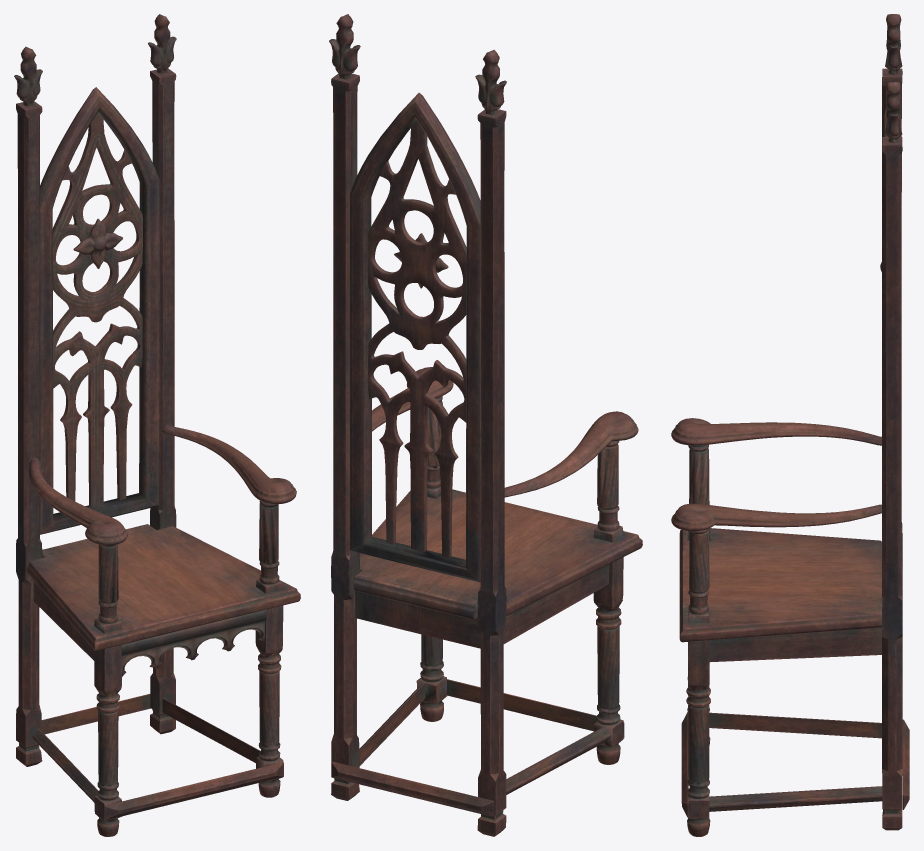
The model's file is chair-02.glb.
3 renders of one model, left to right at view 1: azimuth 30°, elevation 25°; view 2: azimuth 150°, elevation 25°; view 3: azimuth 270°, elevation 25°, orthographic. The views are drawn at different scales.
Visible parts, largest first — view 1: WoodenChair_01; view 2: WoodenChair_01; view 3: WoodenChair_01.
Part boxes in pixels (x1=…): WoodenChair_01: x1=14, y1=14, x2=300, y2=836; WoodenChair_01: x1=329, y1=14, x2=642, y2=836; WoodenChair_01: x1=671, y1=14, x2=909, y2=836.
Size of the model in its own units: 0.6881 by 2.27 by 0.6584.
1 material, 1 textured.
